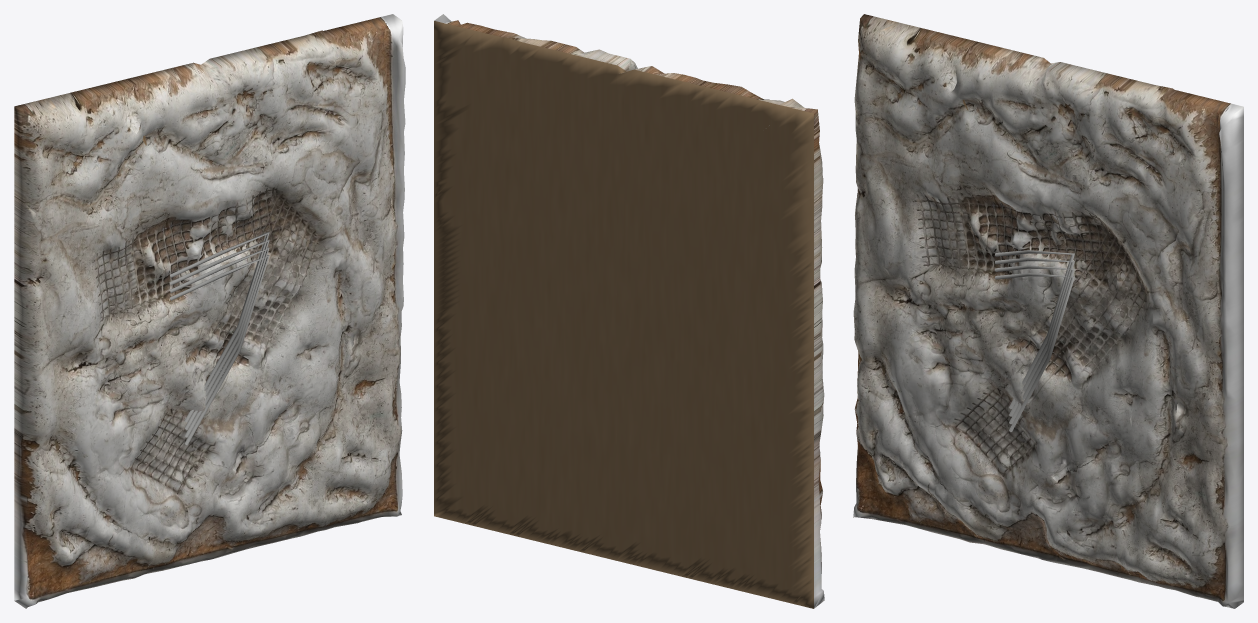
The model's file is hy3d-esc-027.glb.
The picture shows the model from 3 angles, left to right: view 1: azimuth 30°, elevation 25°; view 2: azimuth 150°, elevation 25°; view 3: azimuth 330°, elevation 25°; orthographic projection.
Visible parts, largest first — view 1: world; view 2: world; view 3: world.
Boxes of the visible parts, x1=… form: world: x1=14, y1=14, x2=405, y2=608; world: x1=434, y1=14, x2=824, y2=608; world: x1=853, y1=14, x2=1243, y2=608.
Bounding box in the file's own units: 0.4173 × 0.5209 × 0.0446.
Materials: 1 (1 with a texture image).
